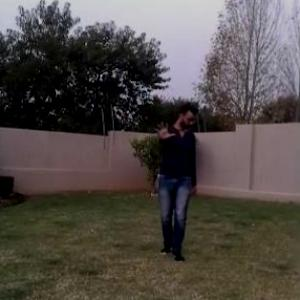follow_hand: (151, 116, 177, 142)
